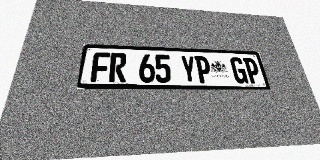5: (155, 54, 171, 83)
6: (139, 54, 155, 83)
F: (90, 52, 110, 82)
G: (229, 57, 249, 84)
P: (242, 58, 262, 84), (194, 56, 212, 83)
R: (109, 53, 127, 82)
Y: (180, 55, 197, 83)
